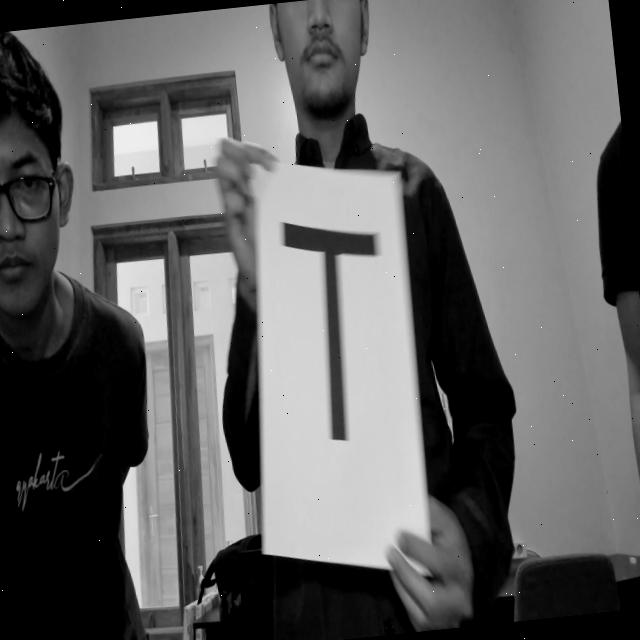t: (268, 195, 408, 458)
